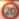20 km speed: (1, 1, 18, 19)
